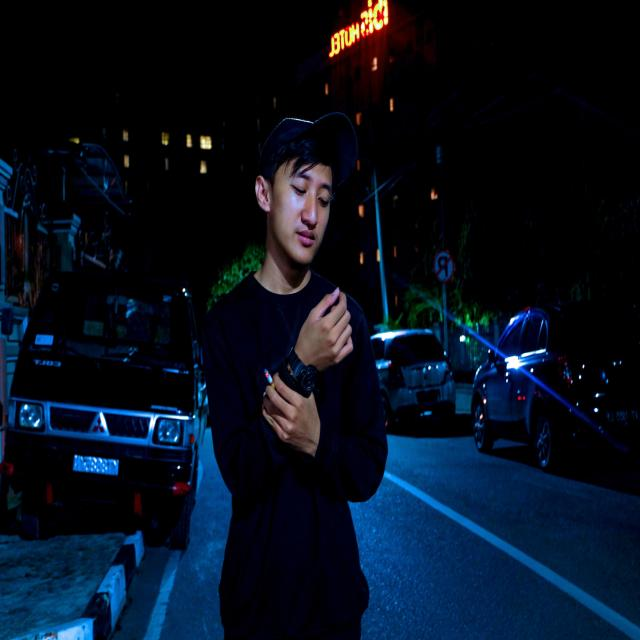adult: (212, 116, 388, 640)
